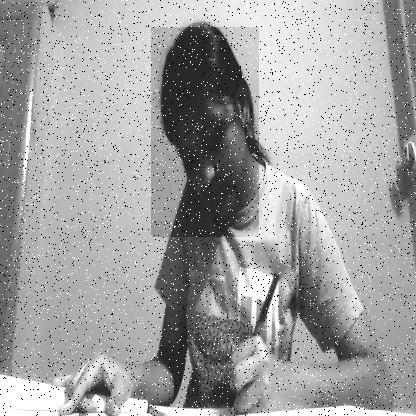Distracted: (150, 27, 258, 237)
